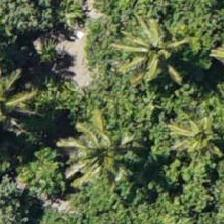coconut_tree: (45, 101, 135, 191), (128, 5, 218, 95), (155, 96, 223, 186)
